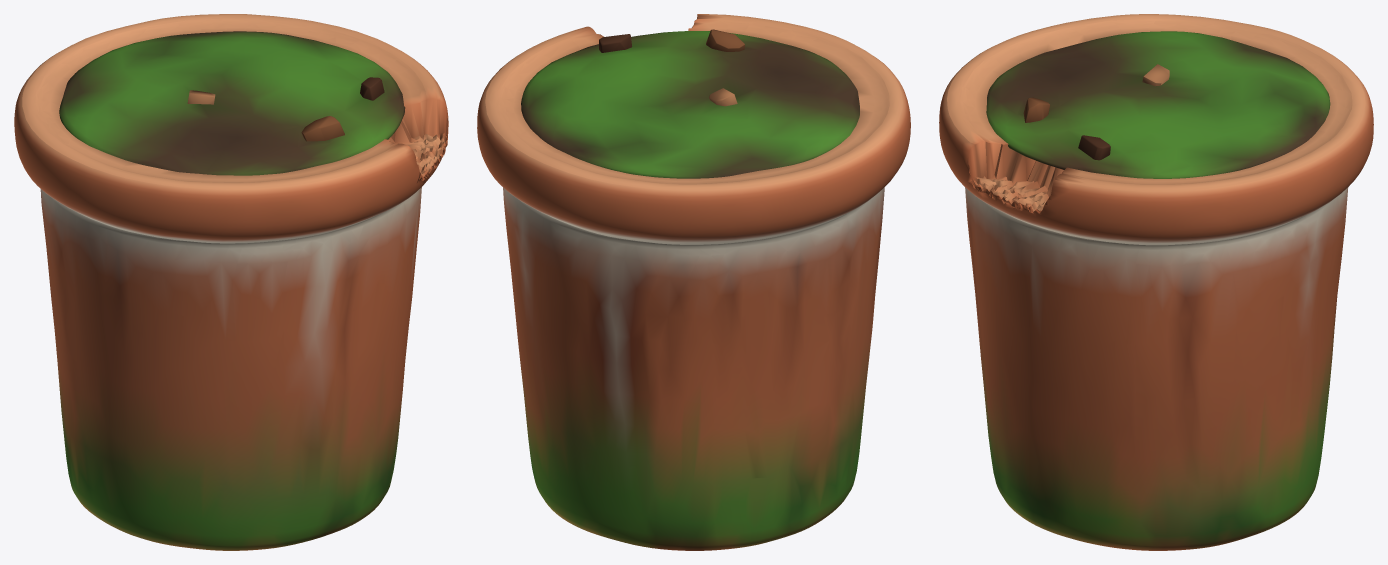
Rendered from canopy_pot_b.glb.
The picture shows the model from 3 angles, left to right: view 1: azimuth 30°, elevation 25°; view 2: azimuth 150°, elevation 25°; view 3: azimuth 270°, elevation 25°; orthographic projection.
Visible parts, largest first — view 1: canopy_pot_b; view 2: canopy_pot_b; view 3: canopy_pot_b.
Part boxes in pixels (<box>): canopy_pot_b: <box>14,14,448,550</box>; canopy_pot_b: <box>477,14,910,550</box>; canopy_pot_b: <box>939,14,1373,550</box>.
Size of the model in its own units: 10.09 by 10.48 by 10.09.
